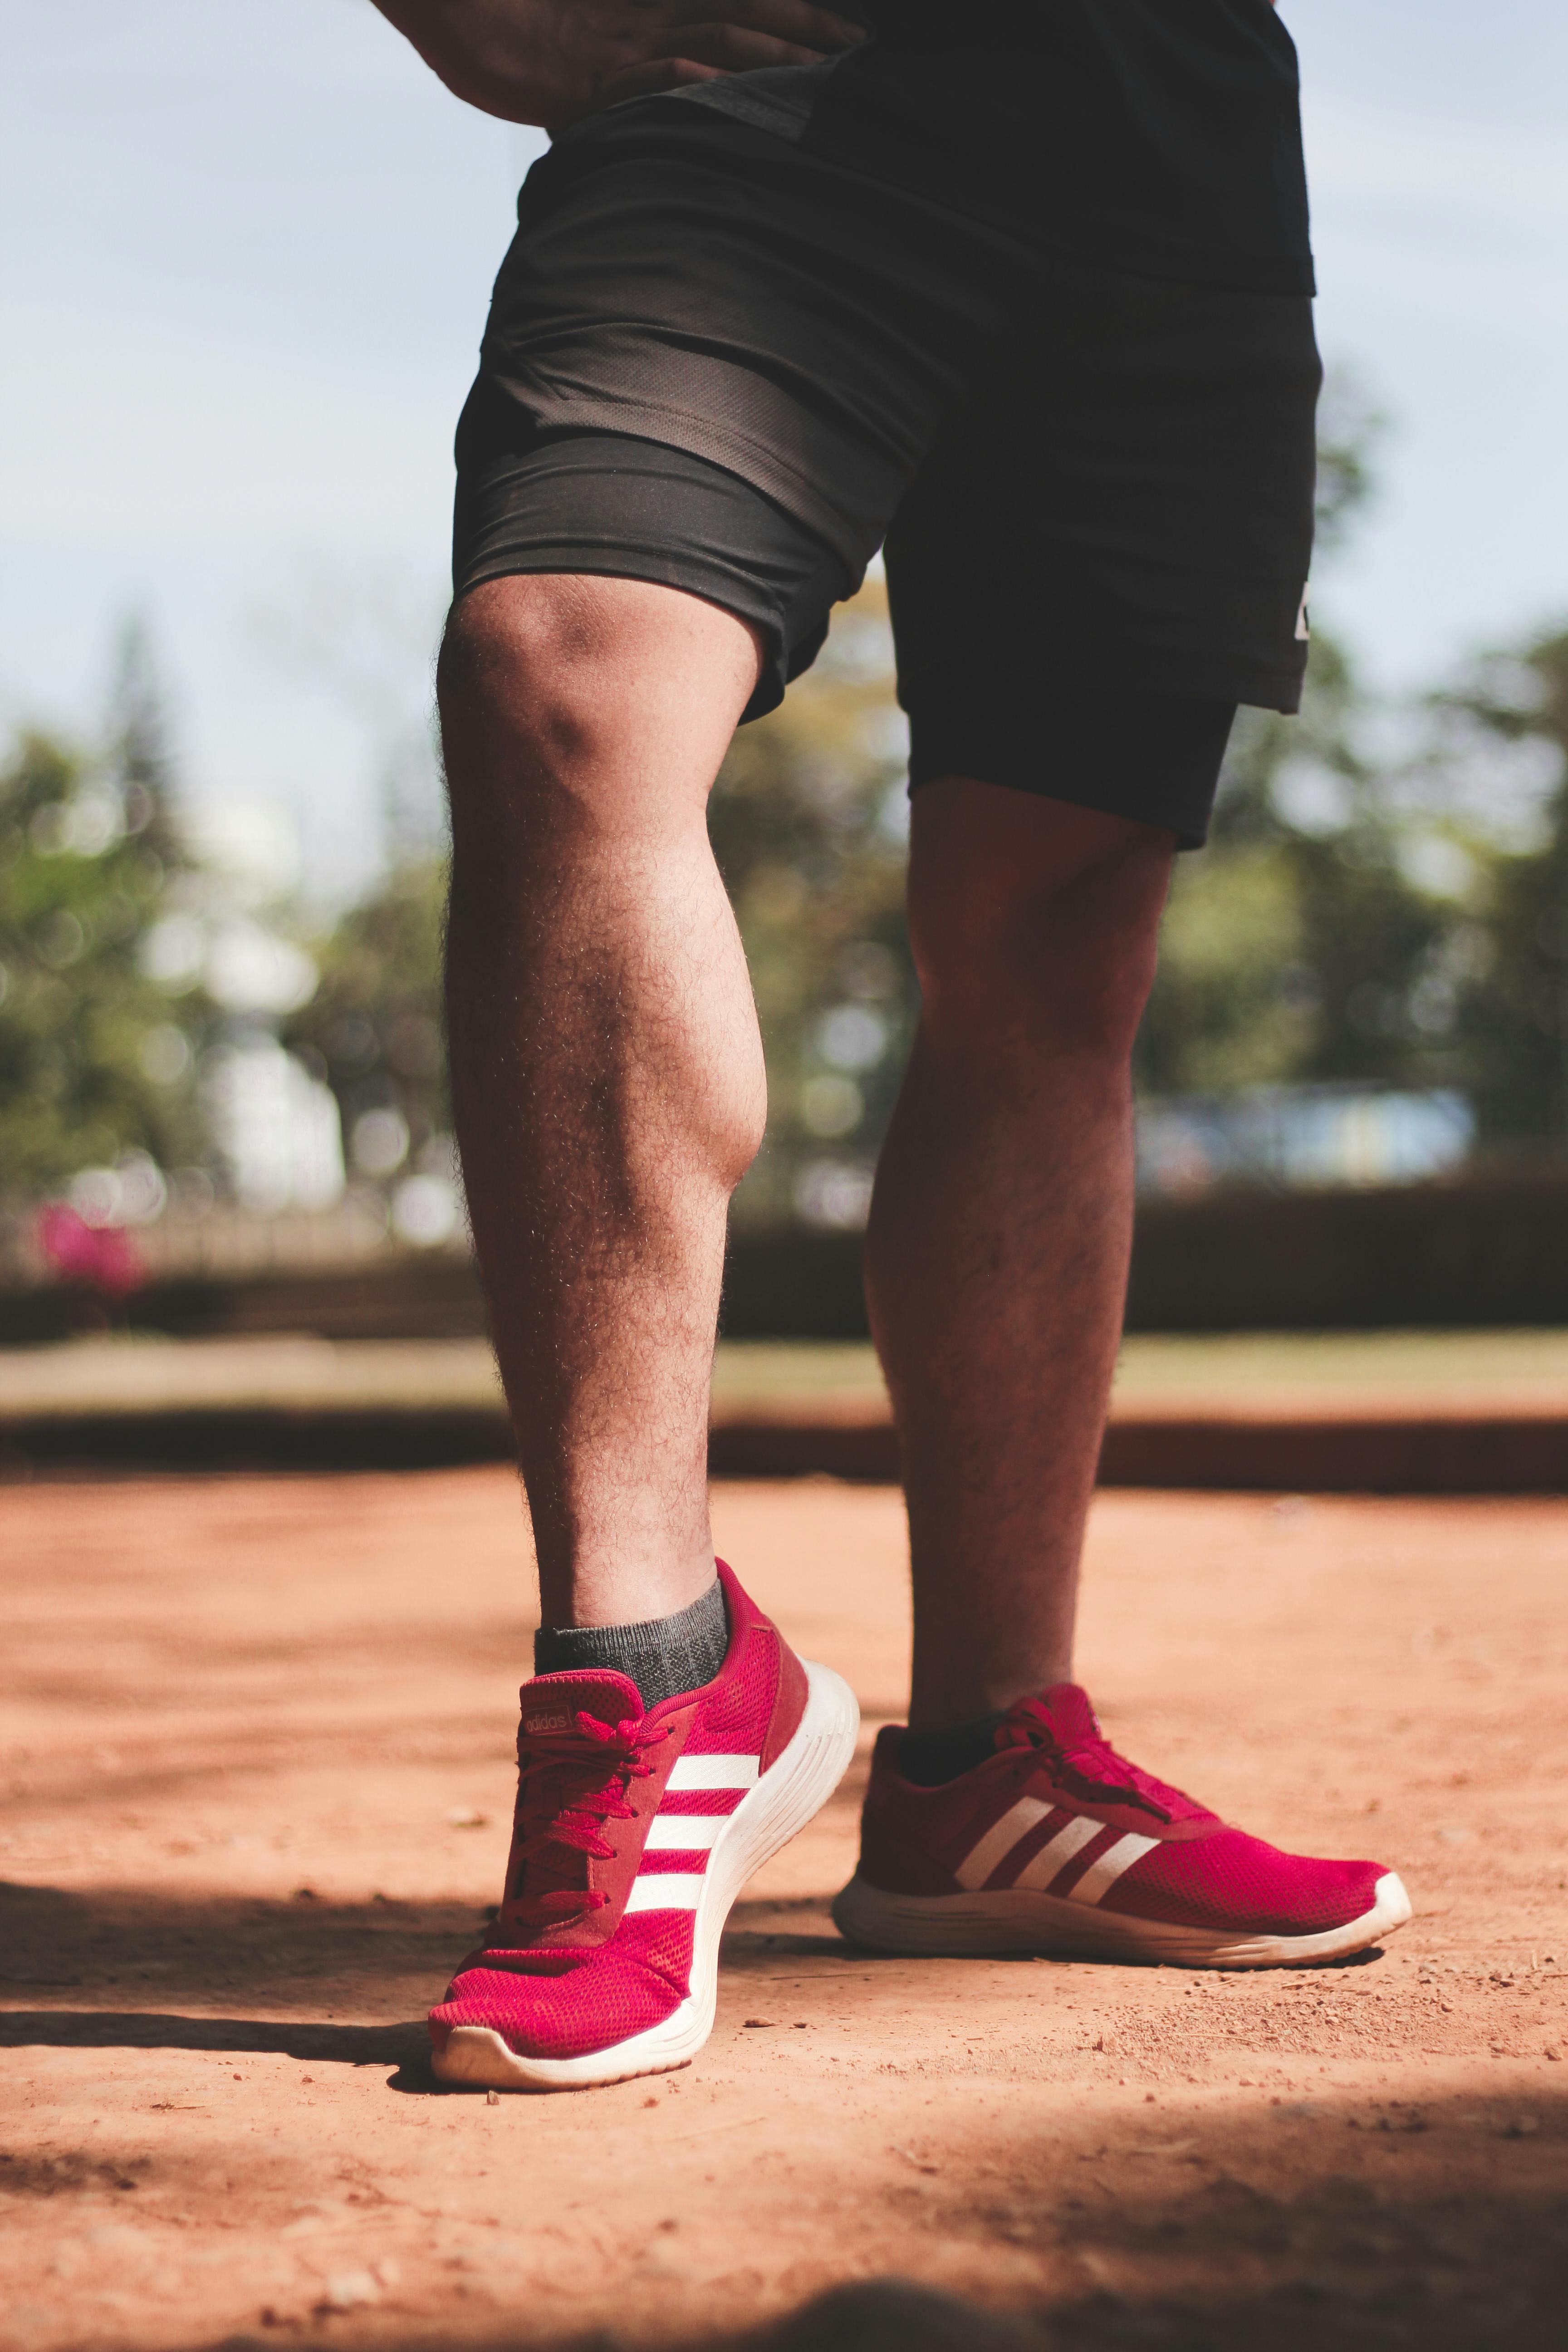Footwear: (389, 1551, 884, 2111), (857, 1668, 1424, 2014)
